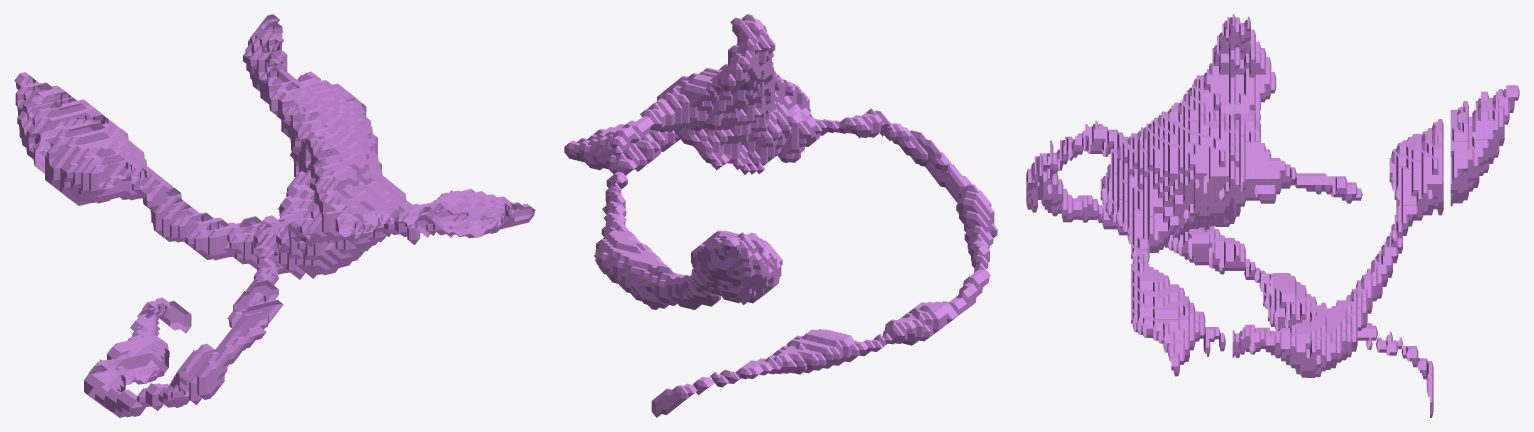
Rendered from SVV_CEPVL.gltf.
The picture shows the model from 3 angles, left to right: view 1: azimuth 30°, elevation 25°; view 2: azimuth 150°, elevation 25°; view 3: azimuth 270°, elevation 25°; orthographic projection. The views are drawn at different scales.
Visible parts, largest first — view 1: CEPVL; view 2: CEPVL; view 3: CEPVL.
Part boxes in pixels (box(x1,y1,x2,y2)): CEPVL: box(14, 14, 535, 417); CEPVL: box(564, 14, 997, 417); CEPVL: box(1026, 14, 1519, 417).
Size of the model in its own units: 39953 by 33297 by 37396.
